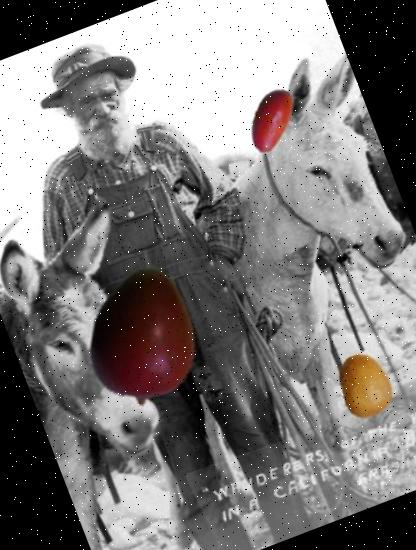Kiwi: (322, 344, 408, 428)
Mango: (53, 246, 235, 428)
Potato: (228, 77, 315, 164)
